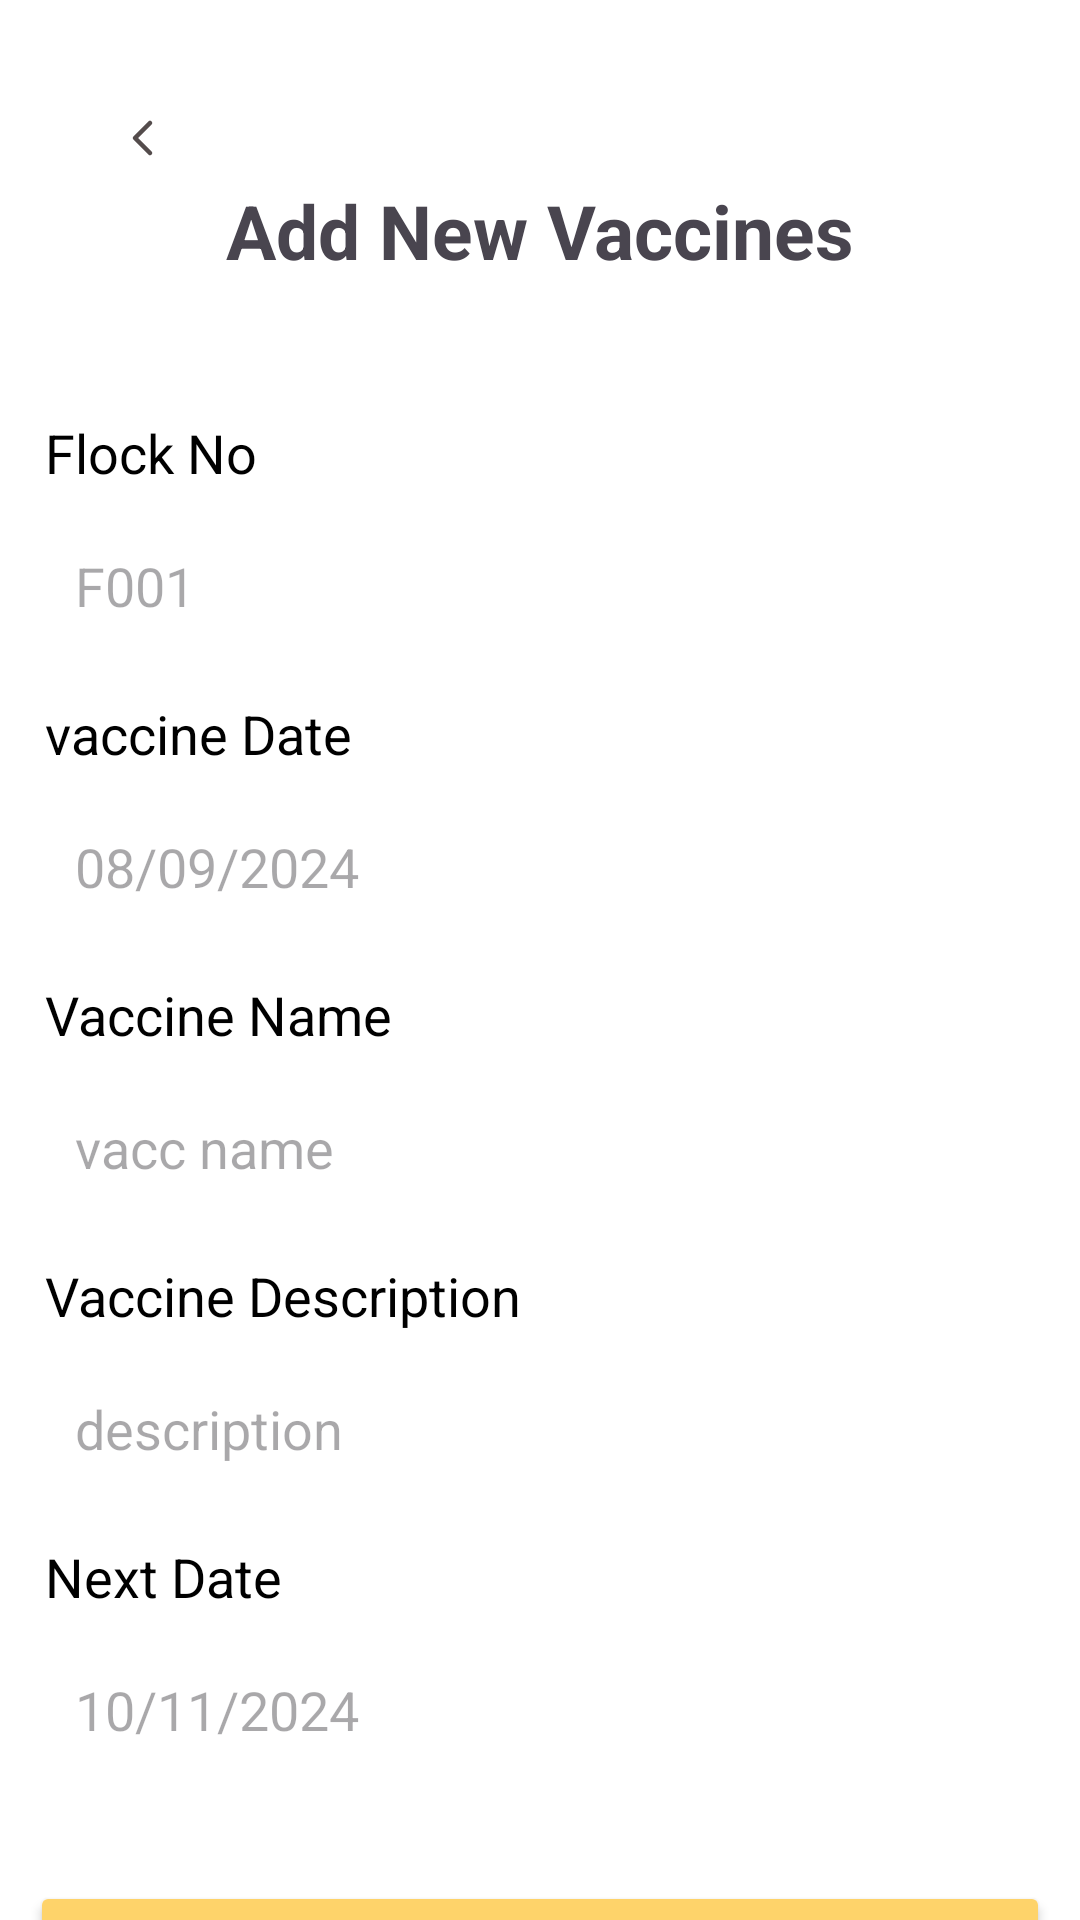

Locate icon controls on the screen. Image size 1080*1920, boxes as (x1,y1,x2,y2).
leftdirect: (133,120,152,156)
